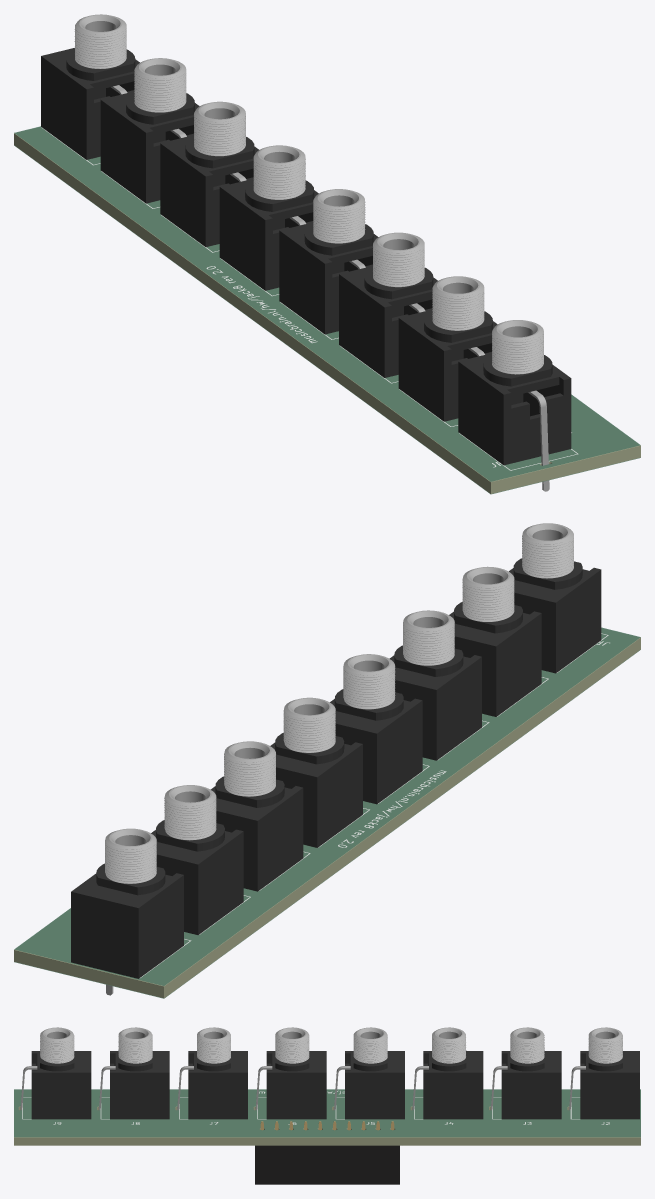
Rendered from musicbrain-jack8.glb.
The picture shows the model from 3 angles, top to bottom: view 1: azimuth 30°, elevation 25°; view 2: azimuth 150°, elevation 25°; view 3: azimuth 270°, elevation 25°; orthographic projection. The views are drawn at different scales.
Parts seen in each view (by area): view 1: =>[0:1:1:5] (×8), =>[0:1:1:12], =>[0:1:1:10], =>[0:1:1:8]; view 2: =>[0:1:1:5] (×8), =>[0:1:1:12], =>[0:1:1:10], =>[0:1:1:8], =>[0:1:1:11]; view 3: =>[0:1:1:5] (×8), =>[0:1:1:12], =>[0:1:1:10], =>[0:1:1:7], =>[0:1:1:8].
Boxes of the visible parts, bbox=[...] form: =>[0:1:1:5] (×8): bbox=[41, 14, 571, 491]; =>[0:1:1:12]: bbox=[14, 127, 640, 493]; =>[0:1:1:10]: bbox=[14, 126, 640, 481]; =>[0:1:1:8]: bbox=[41, 127, 578, 470]; =>[0:1:1:5] (×8): bbox=[71, 523, 601, 978]; =>[0:1:1:12]: bbox=[14, 628, 640, 998]; =>[0:1:1:10]: bbox=[14, 627, 640, 985]; =>[0:1:1:8]: bbox=[140, 633, 609, 977]; =>[0:1:1:11]: bbox=[14, 649, 640, 998]; =>[0:1:1:5] (×8): bbox=[20, 1027, 639, 1119]; =>[0:1:1:12]: bbox=[14, 1090, 640, 1145]; =>[0:1:1:10]: bbox=[14, 1089, 640, 1137]; =>[0:1:1:7]: bbox=[255, 1121, 399, 1184]; =>[0:1:1:8]: bbox=[22, 1090, 609, 1124].
Size of the model in its own units: 0.02 by 0.0247 by 0.11.
